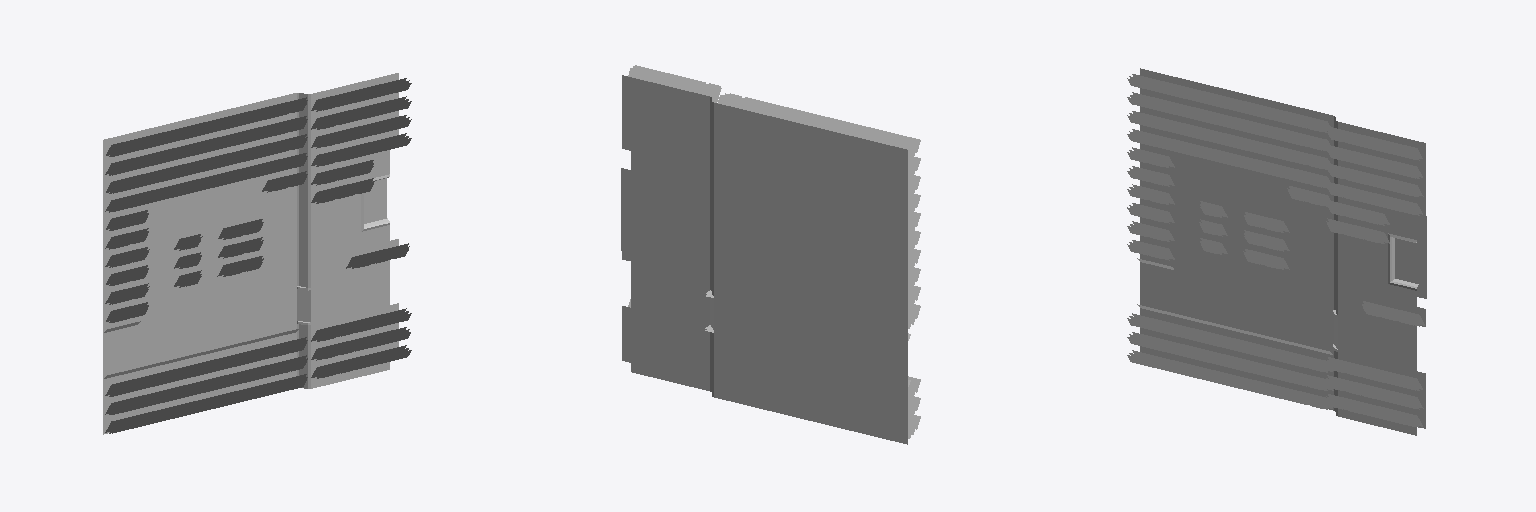
The model's file is Plat_full_05_17.obj.
3 renders of one model, left to right at view 1: azimuth 30°, elevation 25°; view 2: azimuth 150°, elevation 25°; view 3: azimuth 330°, elevation 25°, orthographic.
Visible parts, largest first — view 1: map; view 2: map; view 3: map.
Part boxes in pixels (x1,y1,x2,y2): map: (103, 73, 411, 434); map: (621, 65, 920, 444); map: (1127, 68, 1426, 435).
Size of the model in its own units: 33.25 by 32.12 by 4.64.